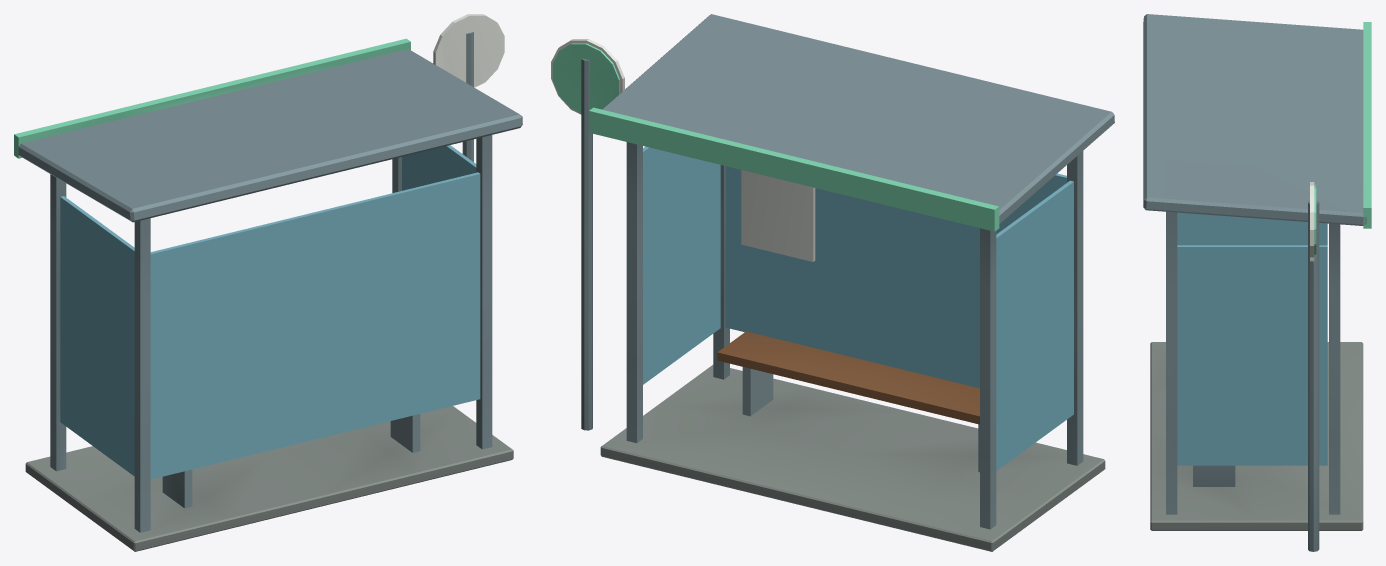
Rendered from sm_env_prop_bus_stop.glb.
The picture shows the model from 3 angles, left to right: view 1: azimuth 30°, elevation 25°; view 2: azimuth 150°, elevation 25°; view 3: azimuth 270°, elevation 25°; orthographic projection. The views are drawn at different scales.
Visible parts, largest first — view 1: ShelterBack, ShelterRoof, ShelterBase, ShelterSide, ShelterPost, RoofTrim, ShelterPost.002, ShelterPost.001, BusSignRing, ShelterSide.001, BenchLeg.001, BenchLeg (+1 smaller); view 2: ShelterRoof, ShelterBase, ShelterBack, ShelterSide, ShelterSide.001, RoofTrim, ShelterBench, Timetable, ShelterPost.003, ShelterPost.001, BusSignPole, ShelterPost (+3 smaller); view 3: ShelterRoof, ShelterSide.001, ShelterBase, ShelterSide, BusSignPole, ShelterPost.002, ShelterPost.003, RoofTrim, BenchLeg.001, BusSignRing.
Part boxes in pixels (box(x1,y1,x2,y2)): ShelterBack: box(150, 172, 480, 479); ShelterRoof: box(16, 49, 522, 222); ShelterBase: box(25, 406, 513, 551); ShelterSide: box(60, 196, 134, 476); ShelterPost: box(134, 218, 150, 532); RoofTrim: box(14, 38, 410, 158); ShelterPost.002: box(476, 135, 492, 449); ShelterPost.001: box(50, 174, 66, 471); BusSignRing: box(433, 14, 504, 87); ShelterSide.001: box(402, 145, 476, 190); BenchLeg.001: box(390, 414, 420, 452); BenchLeg: box(162, 469, 192, 508); ShelterRoof: box(602, 14, 1114, 223); ShelterBase: box(600, 365, 1105, 551); ShelterBack: box(725, 166, 1066, 388); ShelterSide: box(996, 180, 1073, 470); ShelterSide.001: box(643, 146, 720, 384); RoofTrim: box(589, 107, 999, 231); ShelterBench: box(717, 331, 979, 424); Timetable: box(741, 170, 815, 261); ShelterPost.003: box(626, 142, 642, 443); ShelterPost.001: box(980, 228, 996, 529); BusSignPole: box(581, 58, 592, 430); ShelterPost: box(1067, 151, 1083, 465); ShelterRoof: box(1143, 14, 1366, 225); ShelterSide.001: box(1177, 245, 1327, 465); ShelterBase: box(1150, 342, 1363, 530); ShelterSide: box(1177, 212, 1327, 245); BusSignPole: box(1308, 200, 1319, 551); ShelterPost.002: box(1166, 211, 1177, 514); ShelterPost.003: box(1329, 223, 1340, 514); RoofTrim: box(1363, 22, 1371, 228); BenchLeg.001: box(1193, 465, 1235, 486); BusSignRing: box(1310, 182, 1314, 261).
Bounding box in the file's own units: 3.62 × 2.83 × 1.61.
